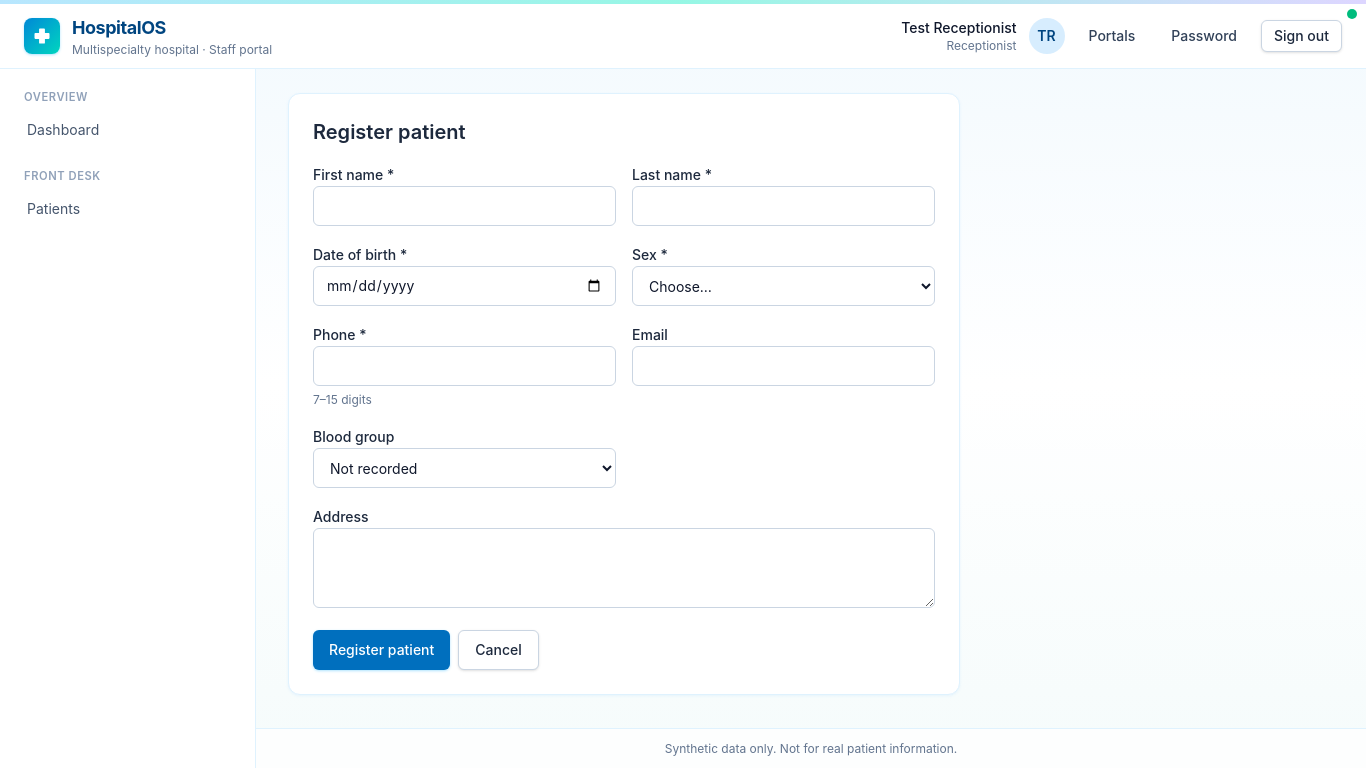
Scenario: patient registration › registers with normalised values and opens the new record
This screenshot has width=1366, height=768.
Expected: the heading "Register patient" is shown, left=313, top=120, right=466, bottom=144
Step 1. Type "Zz Test" into the field labelled "First name" → (464, 206), box left=313, top=186, right=616, bottom=226
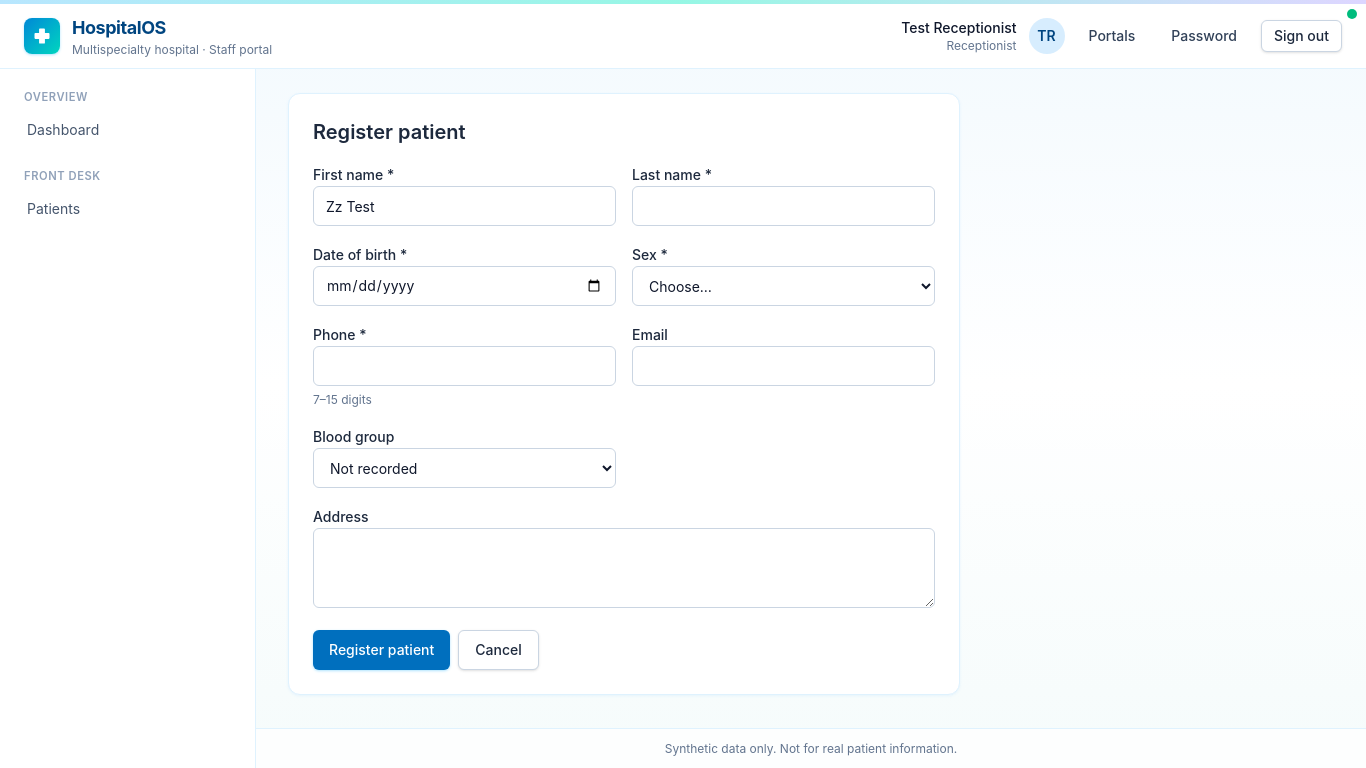
Step 2. Type "Patient" into the field labelled "Last name" → (784, 206), box left=632, top=186, right=935, bottom=226
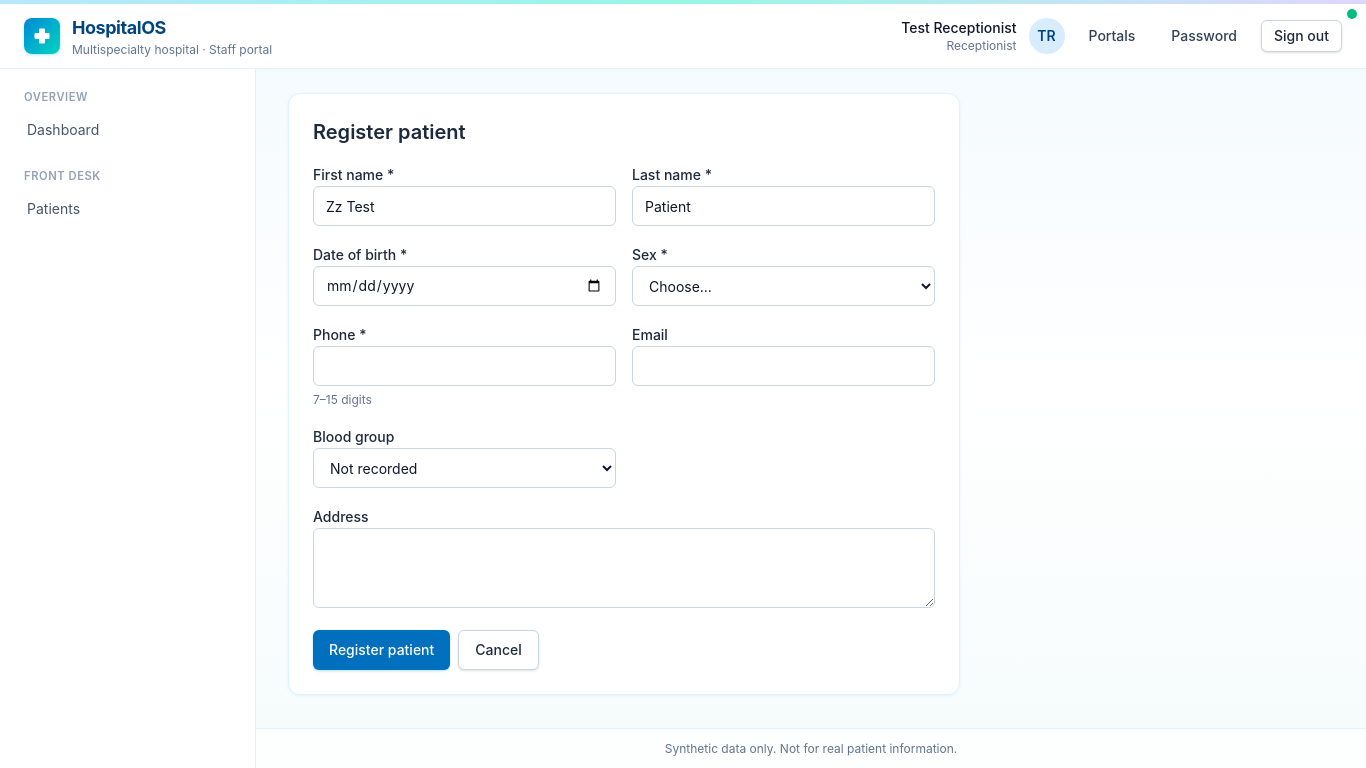
Step 3. Type "1990-05-17" into the date field labelled "Date of birth" → (464, 286), box left=313, top=266, right=616, bottom=306
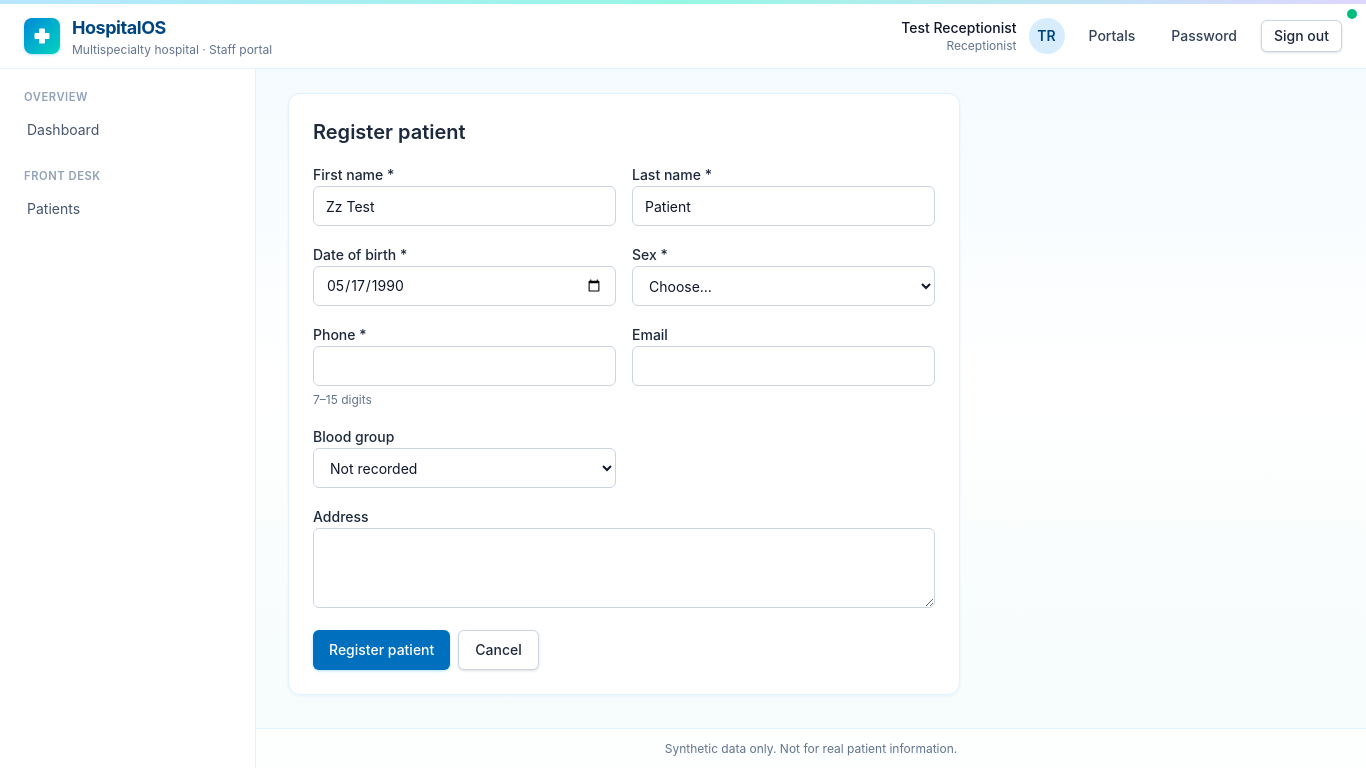
Step 4. Select "Female" in the dropdown labelled "Sex" → (784, 286), box left=632, top=266, right=935, bottom=306
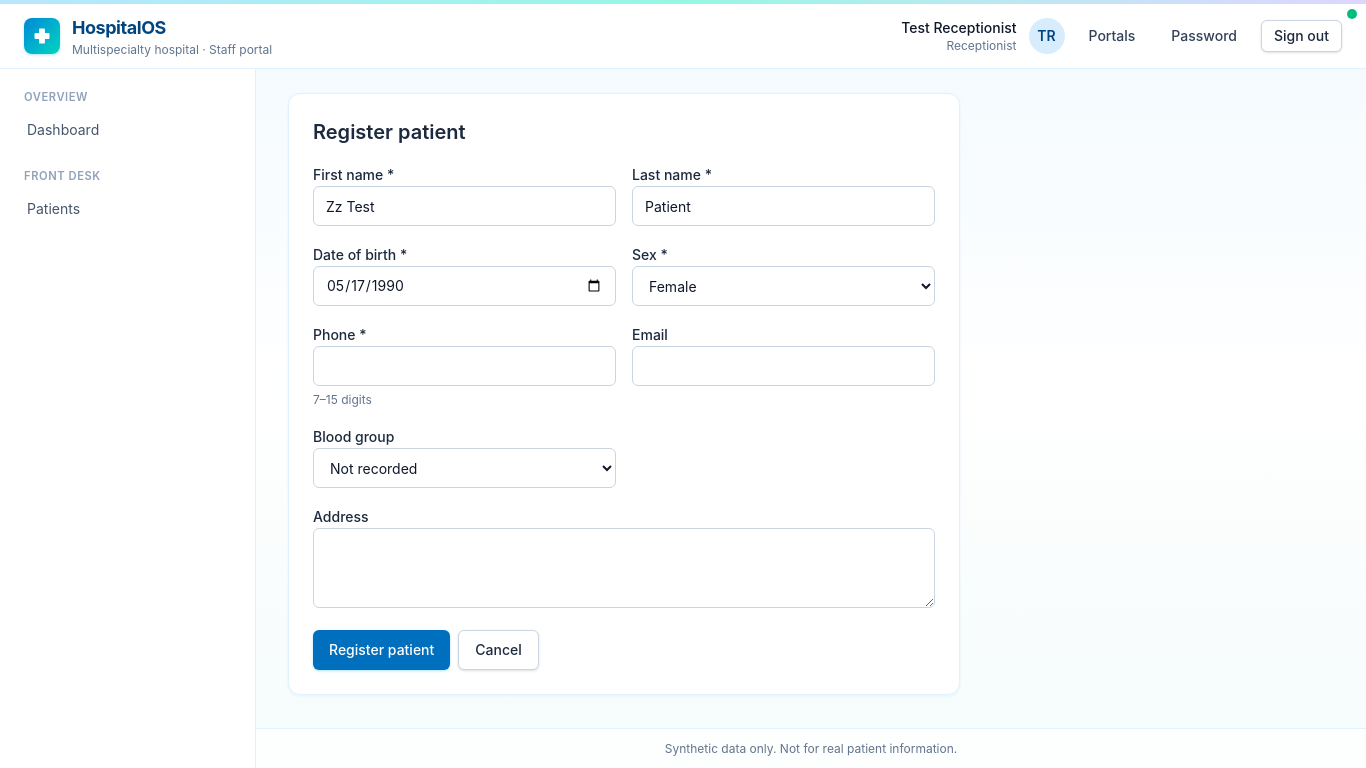
Step 5. Type "90000 00042" into the field labelled "Phone" → (464, 366), box left=313, top=346, right=616, bottom=386
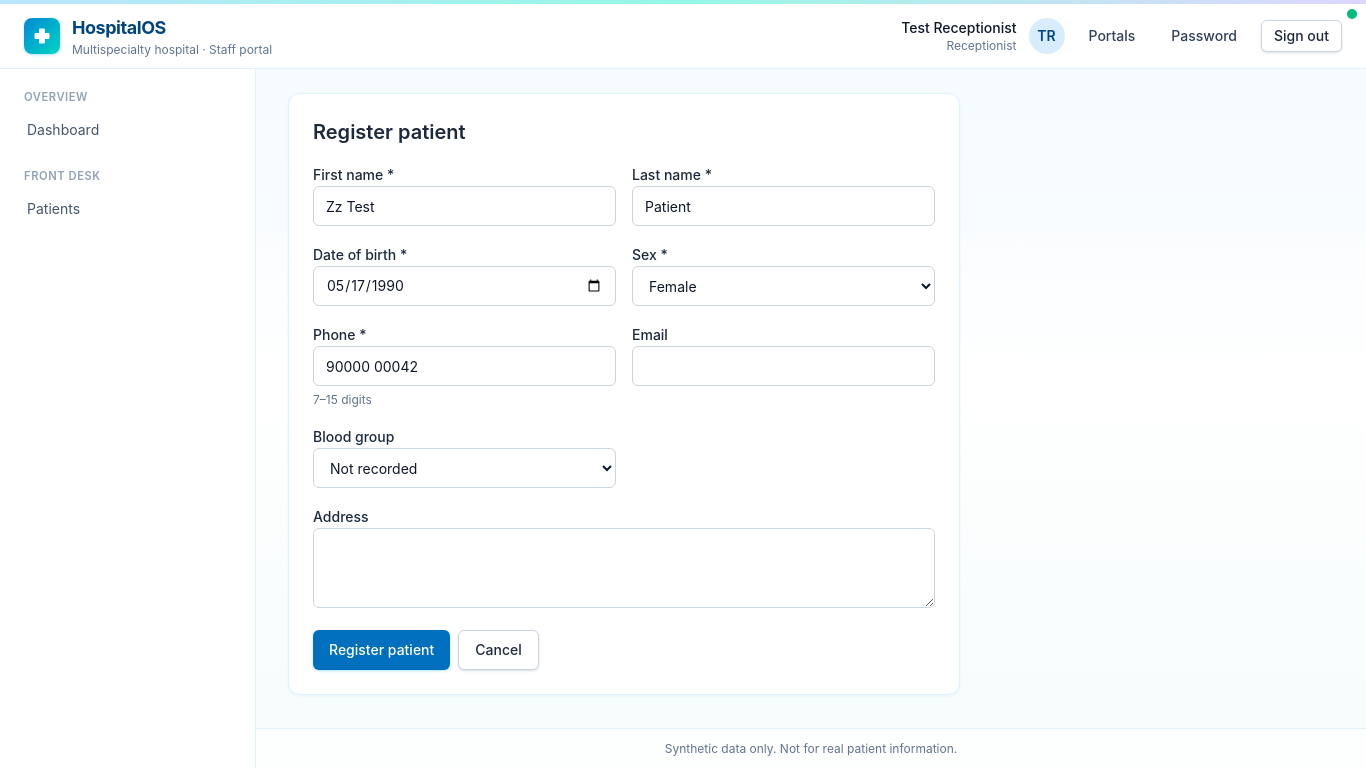
Step 6. Click the button "Register patient" → click(382, 650), box left=313, top=630, right=450, bottom=670
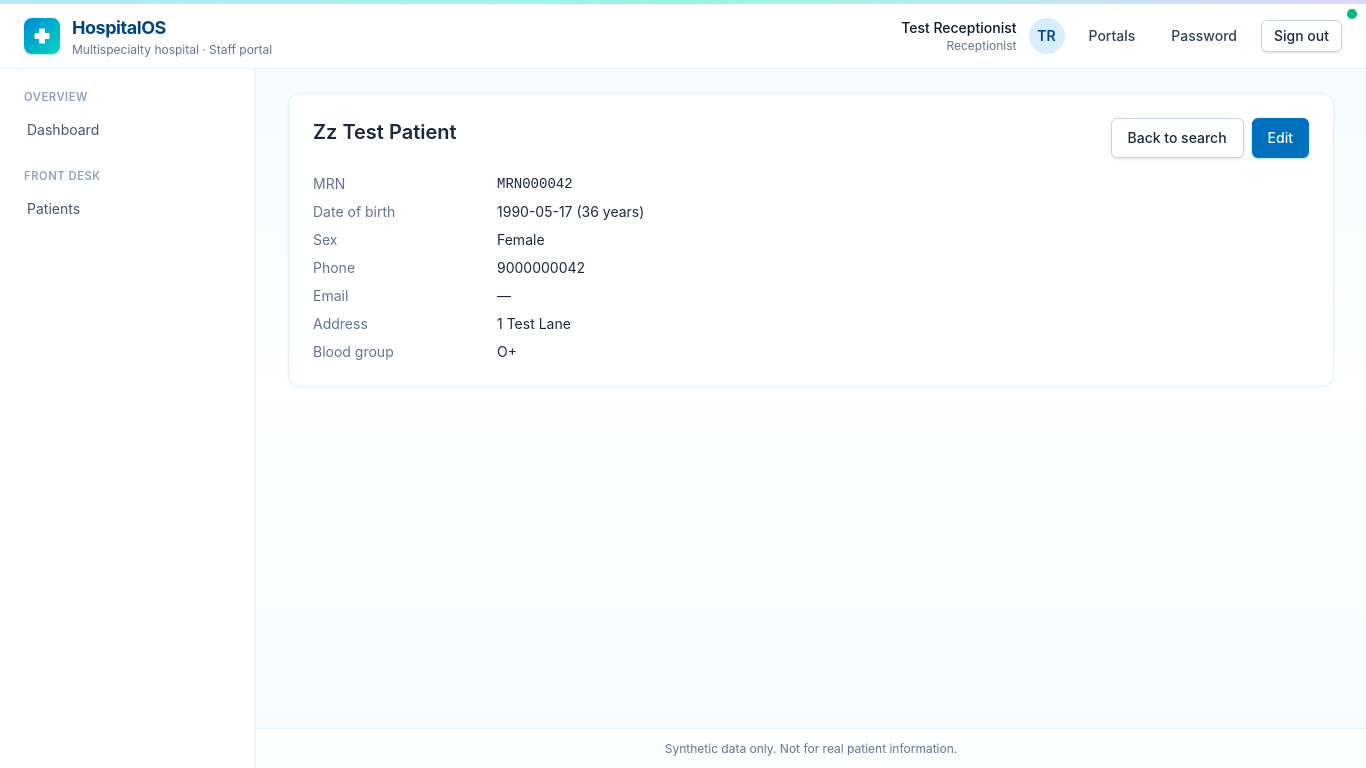
Expected: the heading "Zz Test Patient" is shown, left=313, top=118, right=457, bottom=146
